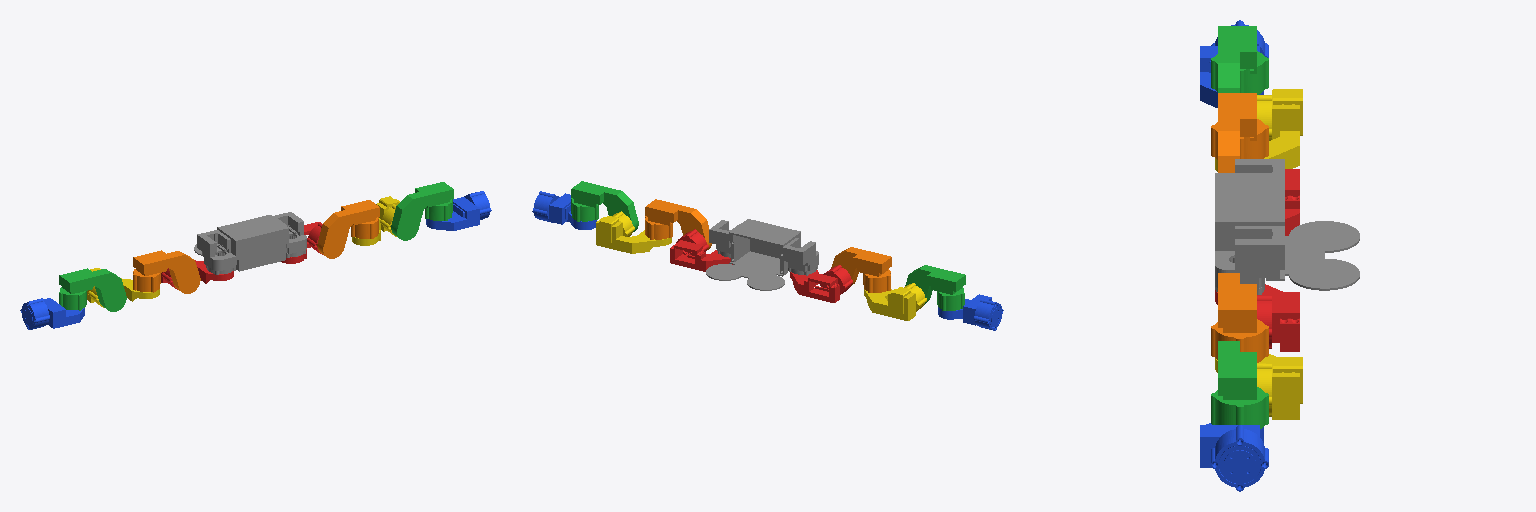
URDF robot description (ASOW):
<?xml version='1.0' encoding='utf-8'?>
<robot name="ASOW">
  <link name="base_link">
    <inertial>
      <origin xyz="-5.748956981403833e-16 0.0005229651779704818 0.08470785357860047" rpy="0.0 0.0 0.0" />
      <mass value="3.3530847884984594" />
      <inertia ixx="0.005417359290214696" iyy="0.01900395973407412" izz="0.020616482208668133" ixy="-5.457545054875558e-16" iyz="0.00031338892895772086" ixz="-2.2640320512294876e-17" />
    </inertial>
    <visual name="base_link_visual">
      <origin xyz="0.0 0.0 0.0" rpy="0.0 -0.0 0.0" />
      <geometry>
        <mesh filename="package://asow_hw_description/meshes/base_link.stl" scale="0.001 0.001 0.001" />
      </geometry>
      <material name="base_link_color">
        <color rgba="0.6 0.6 0.6 1.0" />
      </material>
    </visual>
    <collision name="base_link_collision">
      <origin xyz="0.0 0.0 0.0" rpy="0.0 -0.0 0.0" />
      <geometry>
        <mesh filename="package://asow_hw_description/meshes/base_link.stl" scale="0.001 0.001 0.001" />
      </geometry>
    </collision>
  </link>
  <link name="left_link1">
    <inertial>
      <origin xyz="0.05083817545162827 -0.027802245360105397 0.006352722914272171" rpy="0.0 -0.0 0.0" />
      <mass value="1.3753654828756954" />
      <inertia ixx="0.001001600350153288" iyy="0.0024802704729061514" izz="0.0030065561069969327" ixy="0.000443216054170365" iyz="3.1467407996623765e-05" ixz="0.00017022184384626014" />
    </inertial>
    <visual name="left_link1_visual">
      <origin xyz="-0.086 -0.012 0.05" rpy="3.141592653589793 -0.0 0.0" />
      <geometry>
        <mesh filename="package://asow_hw_description/meshes/left_link1.stl" scale="0.001 0.001 0.001" />
      </geometry>
      <material name="left_link1_color">
        <color rgba="0.90 0.20 0.20 1.0" />
      </material>
    </visual>
    <collision name="left_link1_collision">
      <origin xyz="-0.086 -0.012 0.05" rpy="3.141592653589793 -0.0 0.0" />
      <geometry>
        <mesh filename="package://asow_hw_description/meshes/left_link1.stl" scale="0.001 0.001 0.001" />
      </geometry>
    </collision>
  </link>
  <link name="left_link2">
    <inertial>
      <origin xyz="0.04604438155646559 0.030950389119727594 0.007004735923152159" rpy="0.0 -0.0 0.0" />
      <mass value="1.8481663189081778" />
      <inertia ixx="0.0014192826517081623" iyy="0.0034878899348200904" izz="0.004288862076618008" ixy="-0.0006940038661520168" iyz="6.669377825128595e-05" ixz="0.0003796464629083219" />
    </inertial>
    <visual name="left_link2_visual">
      <origin xyz="-0.17600000000000002 -0.05 -0.012" rpy="-1.5707963267948966 -0.0 0.0" />
      <geometry>
        <mesh filename="package://asow_hw_description/meshes/left_link2.stl" scale="0.001 0.001 0.001" />
      </geometry>
      <material name="left_link2_color">
        <color rgba="1.00 0.55 0.10 1.0" />
      </material>
    </visual>
    <collision name="left_link2_collision">
      <origin xyz="-0.17600000000000002 -0.05 -0.012" rpy="-1.5707963267948966 -0.0 0.0" />
      <geometry>
        <mesh filename="package://asow_hw_description/meshes/left_link2.stl" scale="0.001 0.001 0.001" />
      </geometry>
    </collision>
  </link>
  <link name="left_link3">
    <inertial>
      <origin xyz="0.06114237030454298 -0.034086052260862226 0.002735551927064579" rpy="0.0 -0.0 0.0" />
      <mass value="1.8530750418168809" />
      <inertia ixx="0.0014489561836014287" iyy="0.003278827735866796" izz="0.0038769728435710804" ixy="0.0007829979749299203" iyz="-0.00010002348383215736" ixz="0.0003921616126917639" />
    </inertial>
    <visual name="left_link3_visual">
      <origin xyz="-0.266 -0.012 0.05" rpy="3.141592653589793 -0.0 0.0" />
      <geometry>
        <mesh filename="package://asow_hw_description/meshes/left_link3.stl" scale="0.001 0.001 0.001" />
      </geometry>
      <material name="left_link3_color">
        <color rgba="0.95 0.85 0.10 1.0" />
      </material>
    </visual>
    <collision name="left_link3_collision">
      <origin xyz="-0.266 -0.012 0.05" rpy="3.141592653589793 -0.0 0.0" />
      <geometry>
        <mesh filename="package://asow_hw_description/meshes/left_link3.stl" scale="0.001 0.001 0.001" />
      </geometry>
    </collision>
  </link>
  <link name="left_link4">
    <inertial>
      <origin xyz="0.04604438155646541 0.030950389119727594 0.007004735923152166" rpy="0.0 -0.0 0.0" />
      <mass value="1.8481663189081756" />
      <inertia ixx="0.0014192826517081605" iyy="0.003487889934820243" izz="0.004288862076618161" ixy="-0.0006940038661520445" iyz="6.669377825128638e-05" ixz="0.00037964646290832363" />
    </inertial>
    <visual name="left_link4_visual">
      <origin xyz="-0.35600000000000004 -0.05 -0.012" rpy="-1.5707963267948966 -0.0 0.0" />
      <geometry>
        <mesh filename="package://asow_hw_description/meshes/left_link4.stl" scale="0.001 0.001 0.001" />
      </geometry>
      <material name="left_link4_color">
        <color rgba="0.20 0.75 0.30 1.0" />
      </material>
    </visual>
    <collision name="left_link4_collision">
      <origin xyz="-0.35600000000000004 -0.05 -0.012" rpy="-1.5707963267948966 -0.0 0.0" />
      <geometry>
        <mesh filename="package://asow_hw_description/meshes/left_link4.stl" scale="0.001 0.001 0.001" />
      </geometry>
    </collision>
  </link>
  <link name="left_link5">
    <inertial>
      <origin xyz="0.04846888365841764 0.008723459357496053 0.003940050454827144" rpy="0.0 -0.0 0.0" />
      <mass value="1.6227219284701722" />
      <inertia ixx="0.0008366138867379573" iyy="0.0021823415398964374" izz="0.0025329850670380294" ixy="7.153665339515447e-05" iyz="-9.984343902119663e-06" ixz="0.0002175588366345807" />
    </inertial>
    <visual name="left_link5_visual">
      <origin xyz="-0.446 -0.012 0.05" rpy="3.141592653589793 -0.0 0.0" />
      <geometry>
        <mesh filename="package://asow_hw_description/meshes/left_link5.stl" scale="0.001 0.001 0.001" />
      </geometry>
      <material name="left_link5_color">
        <color rgba="0.20 0.40 0.95 1.0" />
      </material>
    </visual>
    <collision name="left_link5_collision">
      <origin xyz="-0.446 -0.012 0.05" rpy="3.141592653589793 -0.0 0.0" />
      <geometry>
        <mesh filename="package://asow_hw_description/meshes/left_link5.stl" scale="0.001 0.001 0.001" />
      </geometry>
    </collision>
  </link>
  <link name="right_link1">
    <inertial>
      <origin xyz="-0.050838175451628234 -0.0278022453601054 0.006352722914272162" rpy="0.0 -0.0 0.0" />
      <mass value="1.3753654828756956" />
      <inertia ixx="0.0010016003501532884" iyy="0.0024802704729061653" izz="0.003006556106996943" ixy="-0.0004432160541703654" iyz="3.1467407996623765e-05" ixz="-0.00017022184384625667" />
    </inertial>
    <visual name="right_link1_visual">
      <origin xyz="0.086 -0.012 0.05" rpy="3.141592653589793 -0.0 0.0" />
      <geometry>
        <mesh filename="package://asow_hw_description/meshes/right_link1.stl" scale="0.001 0.001 0.001" />
      </geometry>
      <material name="right_link1_color">
        <color rgba="0.90 0.20 0.20 1.0" />
      </material>
    </visual>
    <collision name="right_link1_collision">
      <origin xyz="0.086 -0.012 0.05" rpy="3.141592653589793 -0.0 0.0" />
      <geometry>
        <mesh filename="package://asow_hw_description/meshes/right_link1.stl" scale="0.001 0.001 0.001" />
      </geometry>
    </collision>
  </link>
  <link name="right_link2">
    <inertial>
      <origin xyz="-0.046044381556465626 0.030950389119727594 0.007004735923152157" rpy="0.0 -0.0 0.0" />
      <mass value="1.8481663189081778" />
      <inertia ixx="0.0014192826517081623" iyy="0.0034878899348200904" izz="0.004288862076618008" ixy="0.0006940038661520098" iyz="6.669377825128638e-05" ixz="-0.00037964646290832363" />
    </inertial>
    <visual name="right_link2_visual">
      <origin xyz="0.17600000000000002 -0.05 -0.012" rpy="-1.5707963267948966 -0.0 0.0" />
      <geometry>
        <mesh filename="package://asow_hw_description/meshes/right_link2.stl" scale="0.001 0.001 0.001" />
      </geometry>
      <material name="right_link2_color">
        <color rgba="1.00 0.55 0.10 1.0" />
      </material>
    </visual>
    <collision name="right_link2_collision">
      <origin xyz="0.17600000000000002 -0.05 -0.012" rpy="-1.5707963267948966 -0.0 0.0" />
      <geometry>
        <mesh filename="package://asow_hw_description/meshes/right_link2.stl" scale="0.001 0.001 0.001" />
      </geometry>
    </collision>
  </link>
  <link name="right_link3">
    <inertial>
      <origin xyz="-0.06114237030454298 -0.034086052260862226 0.002735551927064579" rpy="0.0 -0.0 0.0" />
      <mass value="1.8530750418168809" />
      <inertia ixx="0.0014489561836014304" iyy="0.003278827735866796" izz="0.0038769728435710804" ixy="-0.0007829979749299186" iyz="-0.00010002348383215736" ixz="-0.0003921616126917604" />
    </inertial>
    <visual name="right_link3_visual">
      <origin xyz="0.266 -0.012 0.05" rpy="3.141592653589793 -0.0 0.0" />
      <geometry>
        <mesh filename="package://asow_hw_description/meshes/right_link3.stl" scale="0.001 0.001 0.001" />
      </geometry>
      <material name="right_link3_color">
        <color rgba="0.95 0.85 0.10 1.0" />
      </material>
    </visual>
    <collision name="right_link3_collision">
      <origin xyz="0.266 -0.012 0.05" rpy="3.141592653589793 -0.0 0.0" />
      <geometry>
        <mesh filename="package://asow_hw_description/meshes/right_link3.stl" scale="0.001 0.001 0.001" />
      </geometry>
    </collision>
  </link>
  <link name="right_link4">
    <inertial>
      <origin xyz="-0.04604438155646541 0.030950389119727594 0.007004735923152166" rpy="0.0 -0.0 0.0" />
      <mass value="1.8481663189081756" />
      <inertia ixx="0.0014192826517081605" iyy="0.003487889934820243" izz="0.004288862076618161" ixy="0.0006940038661520306" iyz="6.669377825128595e-05" ixz="-0.0003796464629083167" />
    </inertial>
    <visual name="right_link4_visual">
      <origin xyz="0.35600000000000004 -0.05 -0.012" rpy="-1.5707963267948966 -0.0 0.0" />
      <geometry>
        <mesh filename="package://asow_hw_description/meshes/right_link4.stl" scale="0.001 0.001 0.001" />
      </geometry>
      <material name="right_link4_color">
        <color rgba="0.20 0.75 0.30 1.0" />
      </material>
    </visual>
    <collision name="right_link4_collision">
      <origin xyz="0.35600000000000004 -0.05 -0.012" rpy="-1.5707963267948966 -0.0 0.0" />
      <geometry>
        <mesh filename="package://asow_hw_description/meshes/right_link4.stl" scale="0.001 0.001 0.001" />
      </geometry>
    </collision>
  </link>
  <link name="right_link5">
    <inertial>
      <origin xyz="-0.04846888365841778 0.008723459357496058 0.003940050454827126" rpy="0.0 -0.0 0.0" />
      <mass value="1.6227219284701717" />
      <inertia ixx="0.0008366138867379538" iyy="0.002182341539896271" izz="0.0025329850670378073" ixy="-7.153665339515447e-05" iyz="-9.984343902120097e-06" ixz="-0.00021755883663455988" />
    </inertial>
    <visual name="right_link5_visual">
      <origin xyz="0.446 -0.012 0.05" rpy="3.141592653589793 -0.0 0.0" />
      <geometry>
        <mesh filename="package://asow_hw_description/meshes/right_link5.stl" scale="0.001 0.001 0.001" />
      </geometry>
      <material name="right_link5_color">
        <color rgba="0.20 0.40 0.95 1.0" />
      </material>
    </visual>
    <collision name="right_link5_collision">
      <origin xyz="0.446 -0.012 0.05" rpy="3.141592653589793 -0.0 0.0" />
      <geometry>
        <mesh filename="package://asow_hw_description/meshes/right_link5.stl" scale="0.001 0.001 0.001" />
      </geometry>
    </collision>
  </link>
  <joint name="left_joint1" type="revolute">
    <origin xyz="0.086 -0.012 0.05" rpy="3.141592653589793 -0.0 0.0" />
    <parent link="base_link" />
    <child link="left_link1" />
    <axis xyz="0.0 0.0 1.0" />
    <limit lower="-0.523599" upper="1.570796" effort="100.0" velocity="3.14" />
    <dynamics damping="0.1" friction="0.0" />
  </joint>
  <joint name="left_joint2" type="revolute">
    <origin xyz="0.09000000000000002 0.0 0.0" rpy="-1.5707963267948966 -0.0 0.0" />
    <parent link="left_link1" />
    <child link="left_link2" />
    <axis xyz="0.0 0.0 1.0" />
    <limit lower="-1.570796" upper="1.570796" effort="100.0" velocity="3.14" />
    <dynamics damping="0.1" friction="0.0" />
  </joint>
  <joint name="left_joint3" type="revolute">
    <origin xyz="0.09 0.0 0.0" rpy="1.5707963267948966 -0.0 0.0" />
    <parent link="left_link2" />
    <child link="left_link3" />
    <axis xyz="0.0 0.0 1.0" />
    <limit lower="-1.570796" upper="1.570796" effort="100.0" velocity="3.14" />
    <dynamics damping="0.1" friction="0.0" />
  </joint>
  <joint name="left_joint4" type="revolute">
    <origin xyz="0.09 0.0 0.0" rpy="-1.5707963267948966 -0.0 0.0" />
    <parent link="left_link3" />
    <child link="left_link4" />
    <axis xyz="0.0 0.0 1.0" />
    <limit lower="-1.570796" upper="1.570796" effort="100.0" velocity="3.14" />
    <dynamics damping="0.1" friction="0.0" />
  </joint>
  <joint name="left_joint5" type="revolute">
    <origin xyz="0.09 0.0 0.0" rpy="1.5707963267948966 -0.0 0.0" />
    <parent link="left_link4" />
    <child link="left_link5" />
    <axis xyz="0.0 0.0 1.0" />
    <limit lower="-1.570796" upper="1.570796" effort="100.0" velocity="3.14" />
    <dynamics damping="0.1" friction="0.0" />
  </joint>
  <joint name="right_joint1" type="revolute">
    <origin xyz="-0.086 -0.012 0.05" rpy="3.141592653589793 -0.0 0.0" />
    <parent link="base_link" />
    <child link="right_link1" />
    <axis xyz="0.0 0.0 1.0" />
    <limit lower="-1.570796" upper="0.523599" effort="100.0" velocity="3.14" />
    <dynamics damping="0.1" friction="0.0" />
  </joint>
  <joint name="right_joint2" type="revolute">
    <origin xyz="-0.09000000000000002 0.0 0.0" rpy="-1.5707963267948966 -0.0 0.0" />
    <parent link="right_link1" />
    <child link="right_link2" />
    <axis xyz="0.0 0.0 1.0" />
    <limit lower="-1.570796" upper="1.570796" effort="100.0" velocity="3.14" />
    <dynamics damping="0.1" friction="0.0" />
  </joint>
  <joint name="right_joint3" type="revolute">
    <origin xyz="-0.09 0.0 0.0" rpy="1.5707963267948966 -0.0 0.0" />
    <parent link="right_link2" />
    <child link="right_link3" />
    <axis xyz="0.0 0.0 1.0" />
    <limit lower="-1.570796" upper="1.570796" effort="100.0" velocity="3.14" />
    <dynamics damping="0.1" friction="0.0" />
  </joint>
  <joint name="right_joint4" type="revolute">
    <origin xyz="-0.09 0.0 0.0" rpy="-1.5707963267948966 -0.0 0.0" />
    <parent link="right_link3" />
    <child link="right_link4" />
    <axis xyz="0.0 0.0 1.0" />
    <limit lower="-1.570796" upper="1.570796" effort="100.0" velocity="3.14" />
    <dynamics damping="0.1" friction="0.0" />
  </joint>
  <joint name="right_joint5" type="revolute">
    <origin xyz="-0.09 0.0 0.0" rpy="1.5707963267948966 -0.0 0.0" />
    <parent link="right_link4" />
    <child link="right_link5" />
    <axis xyz="0.0 0.0 1.0" />
    <limit lower="-1.570796" upper="1.570796" effort="100.0" velocity="3.14" />
    <dynamics damping="0.1" friction="0.0" />
  </joint>
  <link name="left_tool0" />
  <joint name="left_tool0_joint" type="fixed">
    <parent link="left_link5" />
    <child link="left_tool0" />
    <origin xyz="0 0 0" rpy="0 0 0" />
  </joint>
  <link name="right_tool0" />
  <joint name="right_tool0_joint" type="fixed">
    <parent link="right_link5" />
    <child link="right_tool0" />
    <origin xyz="0 0 0" rpy="0 0 0" />
  </joint>
</robot>

--- What the picture shows (computed from the rendered views, not written in the file) ---
3 views of the same robot in one strip: view 1: azimuth 30°, elevation 25°; view 2: azimuth 150°, elevation 25°; view 3: azimuth 270°, elevation 25° (orthographic).
Robot: ASOW — 13 links, 12 joints (10 revolute, 2 fixed); root link base_link; default pose: all joints at 0.
Visible links, largest first — view 1: base_link, left_link2, left_link4, right_link2, right_link4, left_link5, right_link5, left_link3, right_link3; view 2: base_link, left_link4, left_link2, right_link2, right_link4, left_link3, right_link3, right_link1, left_link1, right_link5, left_link5; view 3: base_link, left_link4, left_link5, right_link2, left_link2, right_link4, right_link3, left_link3, left_link1, right_link5, right_link1.
Link boxes in pixels (box(x1,y1,x2,y2)): base_link: box(194, 212, 306, 274); left_link2: box(317, 200, 379, 258); left_link4: box(391, 182, 453, 240); right_link2: box(133, 250, 200, 293); right_link4: box(59, 268, 126, 311); left_link5: box(426, 191, 491, 230); right_link5: box(20, 298, 84, 329); left_link3: box(352, 196, 399, 245); right_link3: box(87, 268, 159, 307); base_link: box(706, 219, 818, 290); left_link4: box(571, 181, 638, 231); left_link2: box(645, 199, 711, 249); right_link2: box(831, 247, 891, 292); right_link4: box(905, 265, 965, 310); left_link3: box(596, 211, 671, 253); right_link3: box(864, 283, 926, 320); right_link1: box(790, 265, 852, 302); left_link1: box(670, 229, 732, 271); right_link5: box(938, 294, 1003, 330); left_link5: box(532, 191, 596, 229); base_link: box(1215, 159, 1359, 294); left_link4: box(1211, 341, 1268, 428); left_link5: box(1200, 423, 1268, 491); right_link2: box(1211, 93, 1268, 172); left_link2: box(1211, 273, 1268, 362); right_link4: box(1211, 26, 1268, 94); right_link3: box(1215, 89, 1302, 171); left_link3: box(1215, 354, 1302, 419); left_link1: box(1215, 284, 1299, 351); right_link5: box(1200, 20, 1268, 107); right_link1: box(1285, 169, 1299, 235).
Bounding box of the posed robot: 1.11 × 0.1802 × 0.105 m (x, y, z).
Meshes: 11 distinct files referenced, 11 mesh visuals loaded (11 binary STL).
